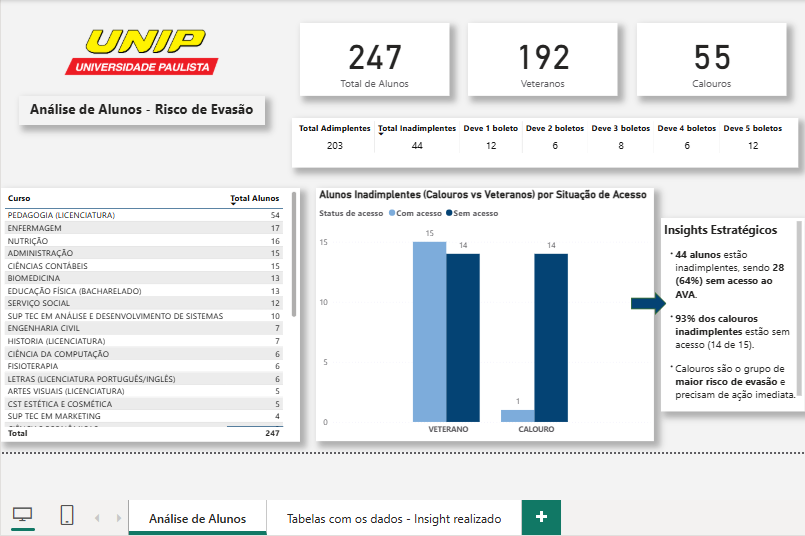

What the dashboard file says about the page in this screenshot:
{"tool":"powerbi","page":{"name":"Análise de Alunos","canvas":[1280,720],"ordinal":0},"visuals":[{"type":"card","fields":{"Values":["data.total_alunos"]},"box":[476,36.6,238,115.9],"z":0},{"type":"tableEx","fields":{"Values":["data.Curso","data.Total Alunos"]},"box":[0,299.3,476,404.4],"z":1000},{"type":"tableEx","fields":{"Values":["data.Total Adimplentes","data.Total Inadimplentes","data.Total_Deve1","data.Total_Deve2","data.Total_Deve3","data.Total_Deve4","data.Total_Deve5"]},"box":[463.8,187.7,805.5,79.3],"z":2000},{"type":"clusteredColumnChart","title":"Alunos Inadimplentes (Calouros vs Veteranos) por Situação de Acesso","fields":{"Category":["data.Calouro/ Veterano"],"Series":["data.Status_Acesso"],"Y":["data.Total Inadimplentes"]},"box":[501.5,299.3,538.1,402.8],"z":3000},{"type":"card","fields":{"Values":["data.Total_Calouros"]},"box":[1013,36.6,238,115.9],"z":4000},{"type":"card","fields":{"Values":["data.Total_Veterano"]},"box":[743,36.6,238,115.9],"z":5000},{"type":"textbox","box":[1051.2,347.8,228.8,308.2],"z":6000},{"type":"shape","box":[1002.3,465.3,56.4,36.6],"z":7000},{"type":"image","box":[80.9,36.6,286.8,91.5],"z":8000},{"type":"textbox","box":[29,152.6,390.6,45.8],"z":9000}]}

Visuals, with their boxes on the page's 1280x720 design canvas (x1, y1, x2, y2). These are canvas units, not pixel positions in the 805x536 screenshot, which may show the page scaled, cropped or inside an application window:
card - data.total_alunos: <bbox>476, 37, 714, 152</bbox>
tableEx - data.Curso x data.Total Alunos: <bbox>0, 299, 476, 704</bbox>
tableEx - data.Total Adimplentes x data.Total Inadimplentes: <bbox>464, 188, 1269, 267</bbox>
"Alunos Inadimplentes (Calouros vs Veteranos) por Situação de Acesso" clusteredColumnChart: <bbox>502, 299, 1040, 702</bbox>
card - data.Total_Calouros: <bbox>1013, 37, 1251, 152</bbox>
card - data.Total_Veterano: <bbox>743, 37, 981, 152</bbox>
textbox: <bbox>1051, 348, 1280, 656</bbox>
shape: <bbox>1002, 465, 1059, 502</bbox>
image: <bbox>81, 37, 368, 128</bbox>
textbox: <bbox>29, 153, 420, 198</bbox>
